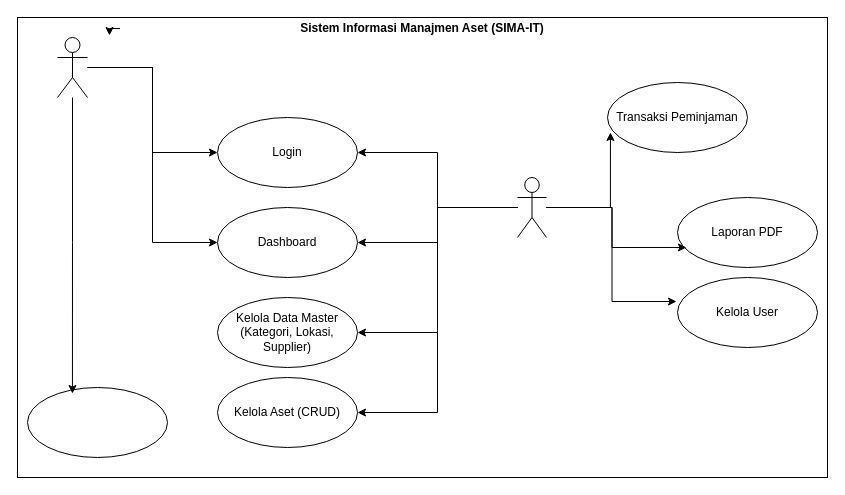
This 845x495 diagram has some shape labels left out. The shapes that lost their labels are listed below. From the top down, each one's centre as x and y in pixels, then its label:
the point at 72,67: Staff
the point at 531,207: Admin
the point at 97,422: Lihat Aset Saya (My Inventory)
